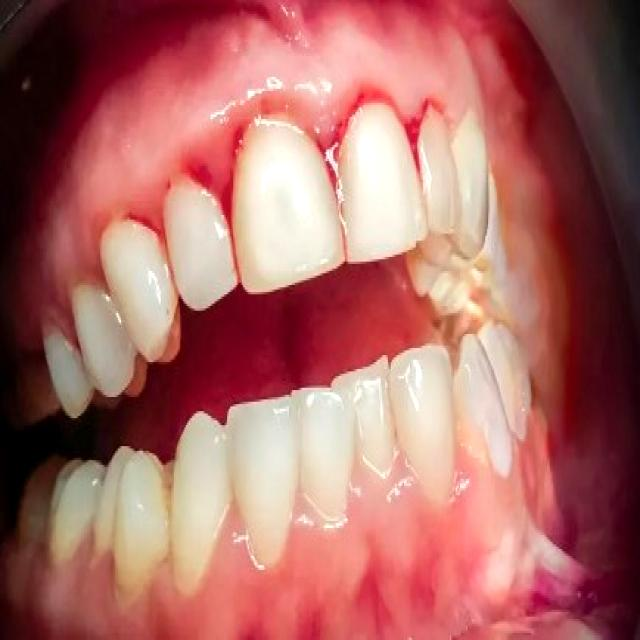gingivitis: (25, 0, 473, 308), (171, 484, 543, 638)
